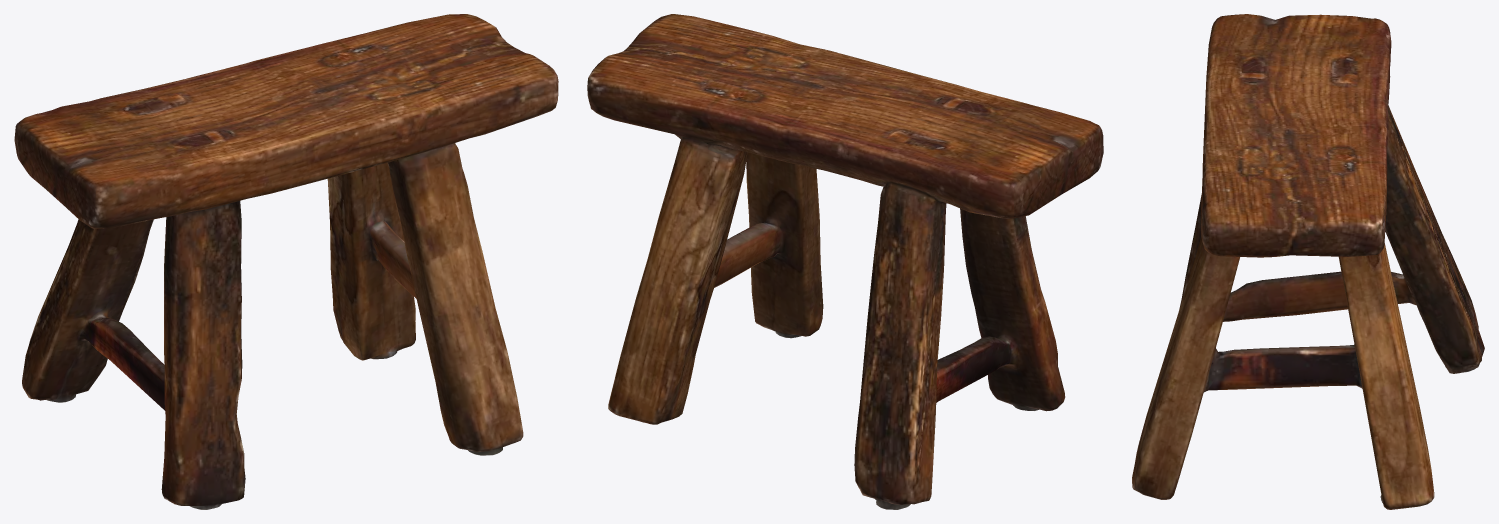
File: wooden_stool_02.glb
3 renders of one model, left to right at view 1: azimuth 30°, elevation 25°; view 2: azimuth 150°, elevation 25°; view 3: azimuth 270°, elevation 25°, orthographic. The views are drawn at different scales.
Parts seen in each view (by area): view 1: wooden_stool_02; view 2: wooden_stool_02; view 3: wooden_stool_02.
Boxes of the visible parts, x1,y1,x2,y2 form: wooden_stool_02: (14, 14, 558, 509); wooden_stool_02: (587, 14, 1103, 509); wooden_stool_02: (1132, 14, 1484, 509).
Size of the model in its own units: 0.2652 by 0.1819 by 0.1831.
Materials: 1 (1 with a texture image).
